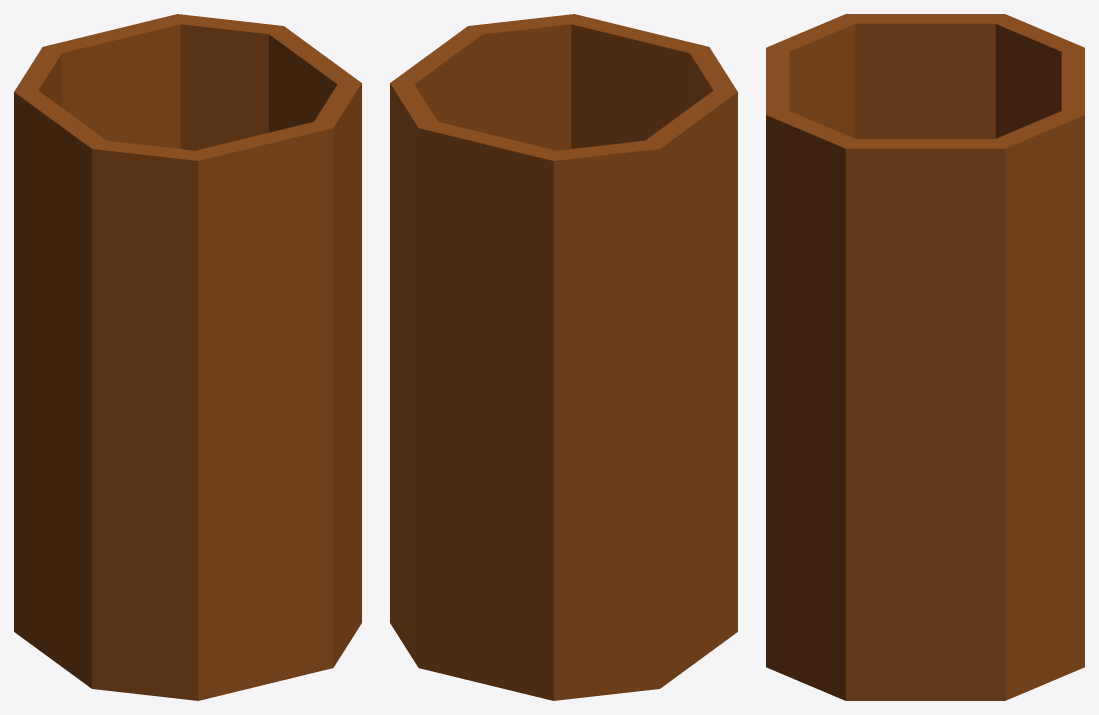
Rendered from Large cup.fbx.
The picture shows the model from 3 angles, left to right: view 1: azimuth 30°, elevation 25°; view 2: azimuth 150°, elevation 25°; view 3: azimuth 270°, elevation 25°; orthographic projection. The views are drawn at different scales.
Visible parts, largest first — view 1: Cup 3; view 2: Cup 3; view 3: Cup 3.
Part boxes in pixels (bbox=[...]): Cup 3: bbox=[14, 14, 361, 700]; Cup 3: bbox=[390, 14, 737, 700]; Cup 3: bbox=[766, 14, 1084, 700].
Bounding box in the file's own units: 39.19 × 74.91 × 39.19.
